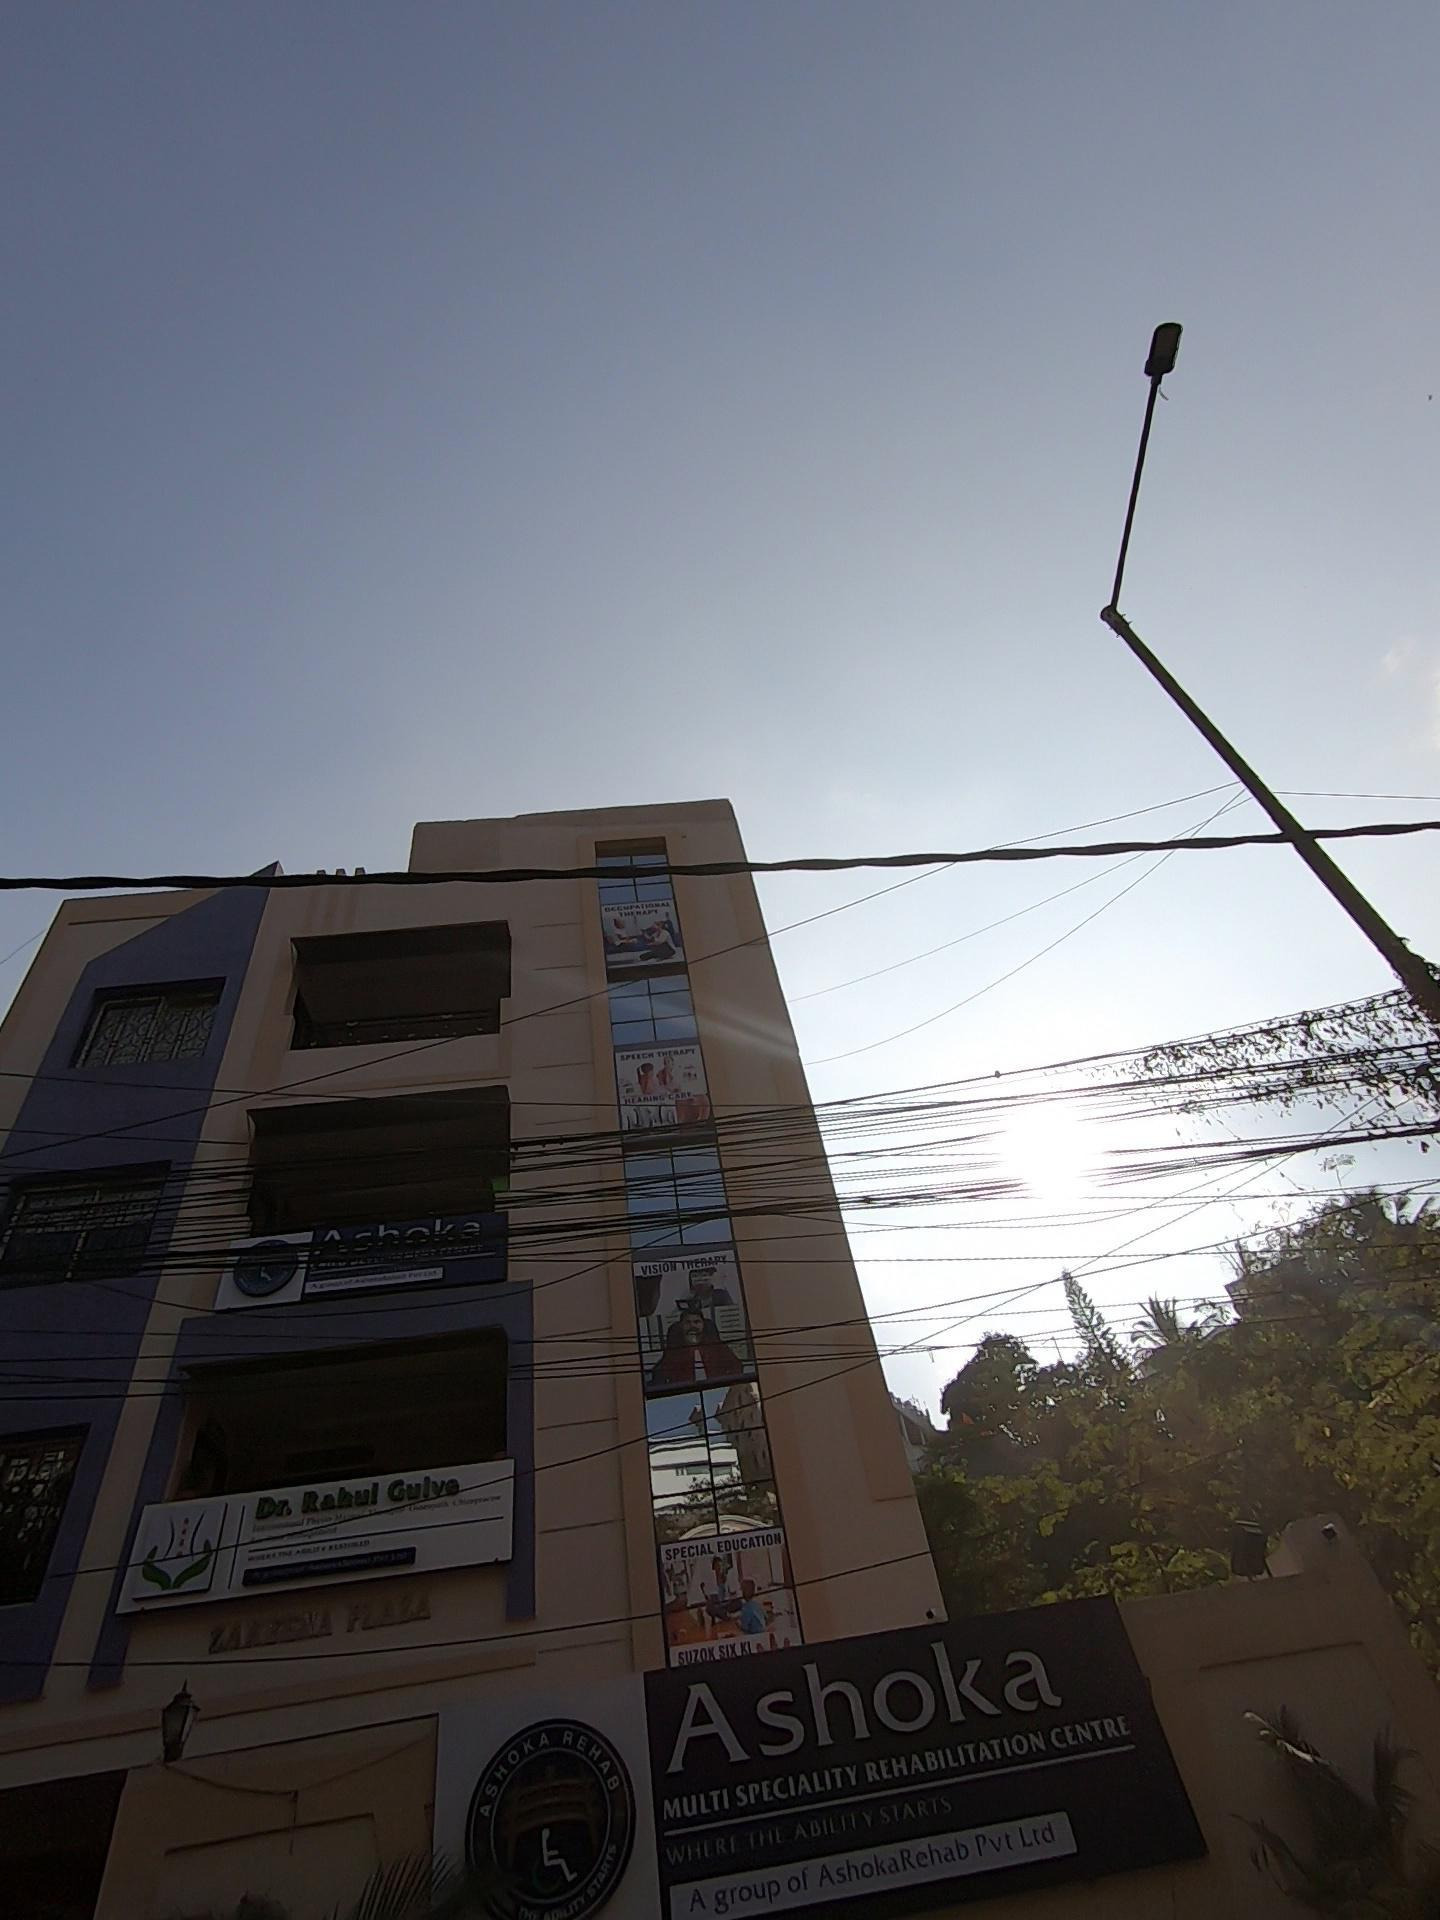off: (1000, 224, 1286, 779)
